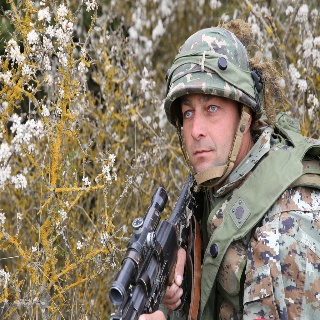rifle: (105, 175, 198, 320)
